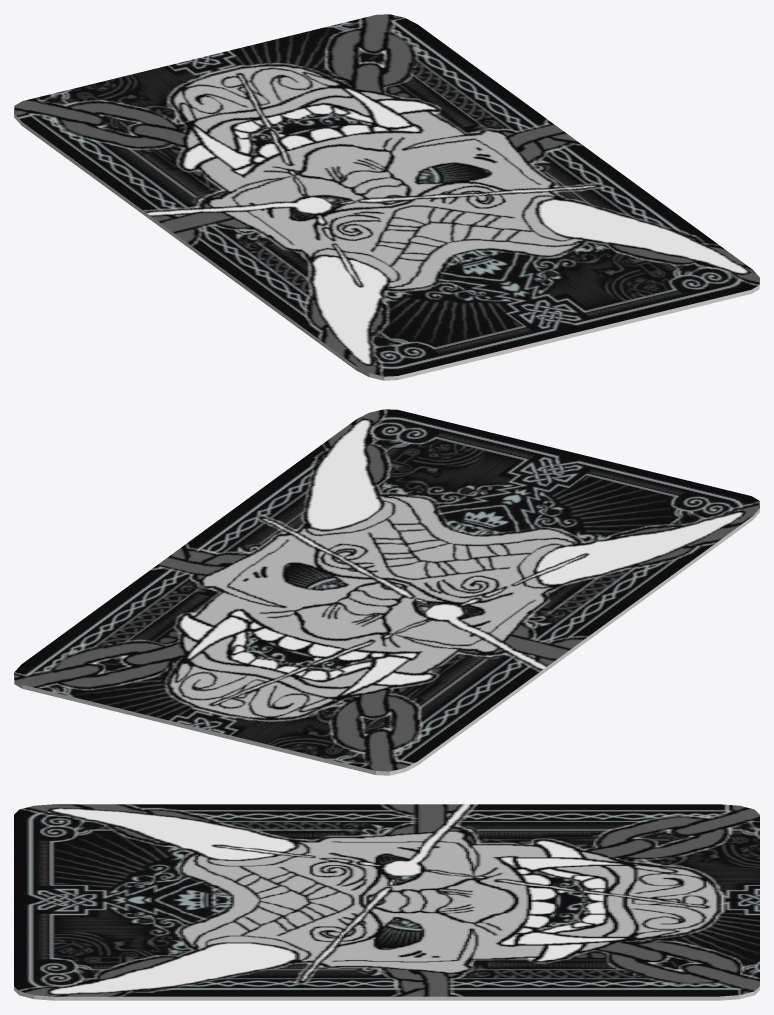
Rendered from TheTakers.fbx.
3 views of the same model, one above another, from view 1: azimuth 30°, elevation 25°; view 2: azimuth 150°, elevation 25°; view 3: azimuth 270°, elevation 25° (orthographic).
Visible parts, largest first — view 1: Plane; view 2: Plane; view 3: Plane.
Boxes of the visible parts, x1=… form: Plane: x1=14, y1=14, x2=759, y2=380; Plane: x1=14, y1=409, x2=759, y2=775; Plane: x1=14, y1=804, x2=759, y2=1000.
Bounding box in the file's own units: 184 × 1.84 × 301.
Materials: 2 (2 with a texture image).
